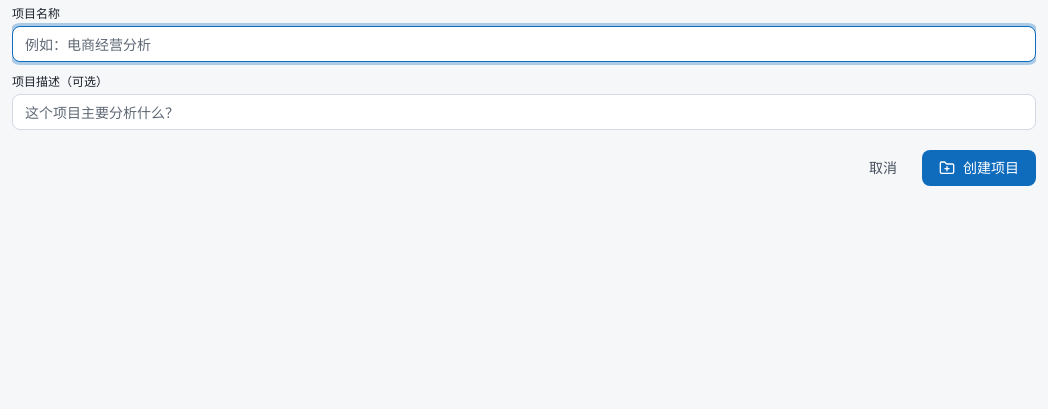
Test: ProjectCreateForm › keeps create failures inline with safe correlation metadata
The width and height of the screenshot is (1048, 409).
Type "orders" into the field with placeholder "例如：电商经营分析". click: (524, 44)
box: left=12, top=26, right=1036, bottom=62
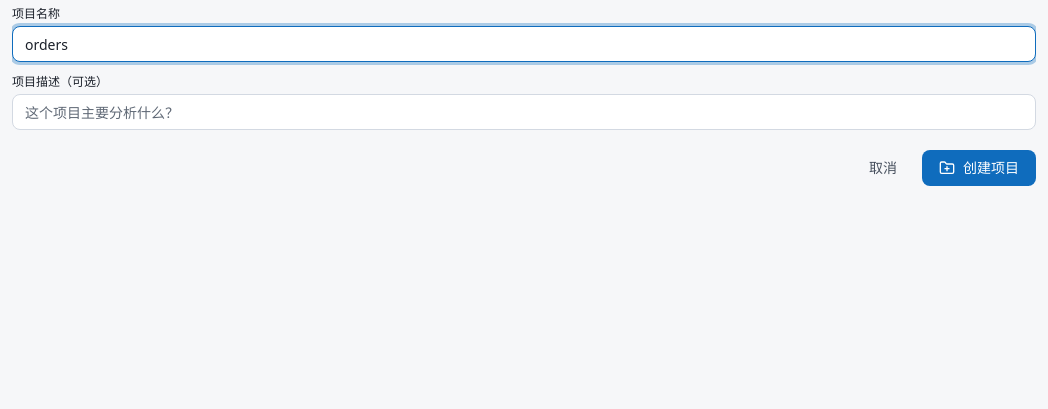
Click the button "创建项目". click: (979, 168)
box: left=922, top=150, right=1036, bottom=186
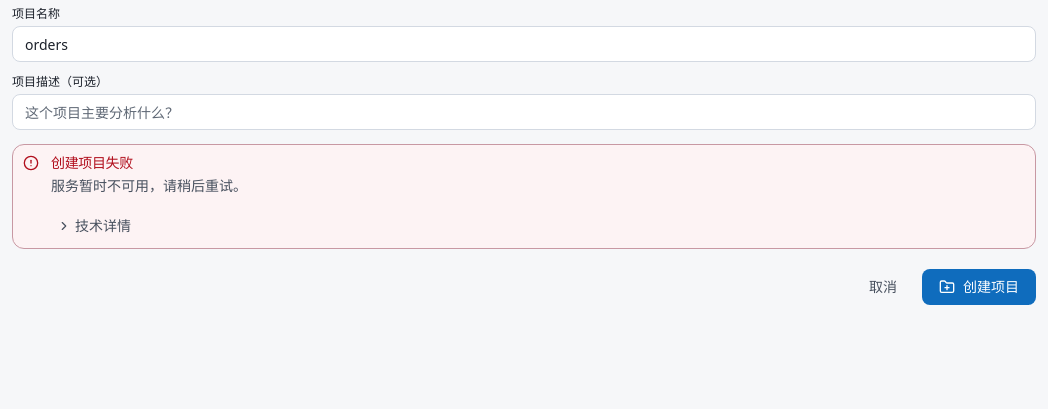
Expected: the text "创建项目失败" is shown, left=51, top=153, right=133, bottom=172
Click the heading "技术详情". click: (94, 226)
box: left=51, top=212, right=137, bottom=240
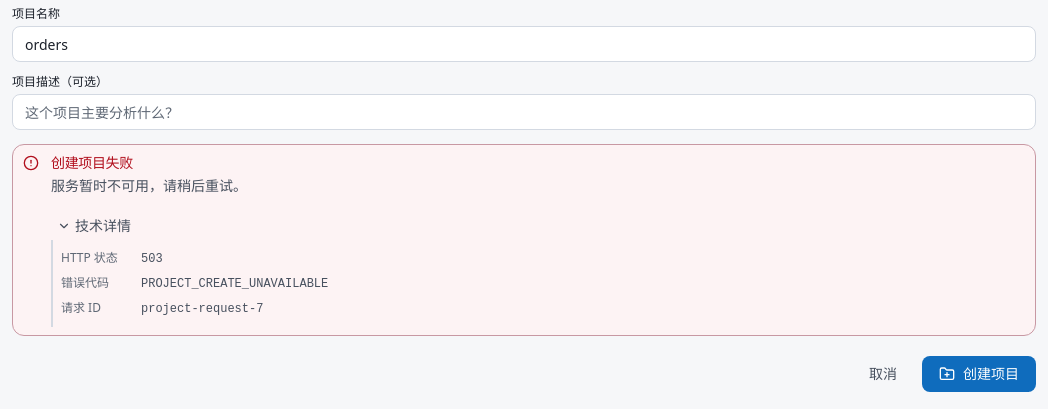
Expected: the text "PROJECT_CREATE_UNAVAILABLE" is shown, left=141, top=277, right=328, bottom=291
Expected: the text "project-request-7" is shown, left=141, top=302, right=263, bottom=316
